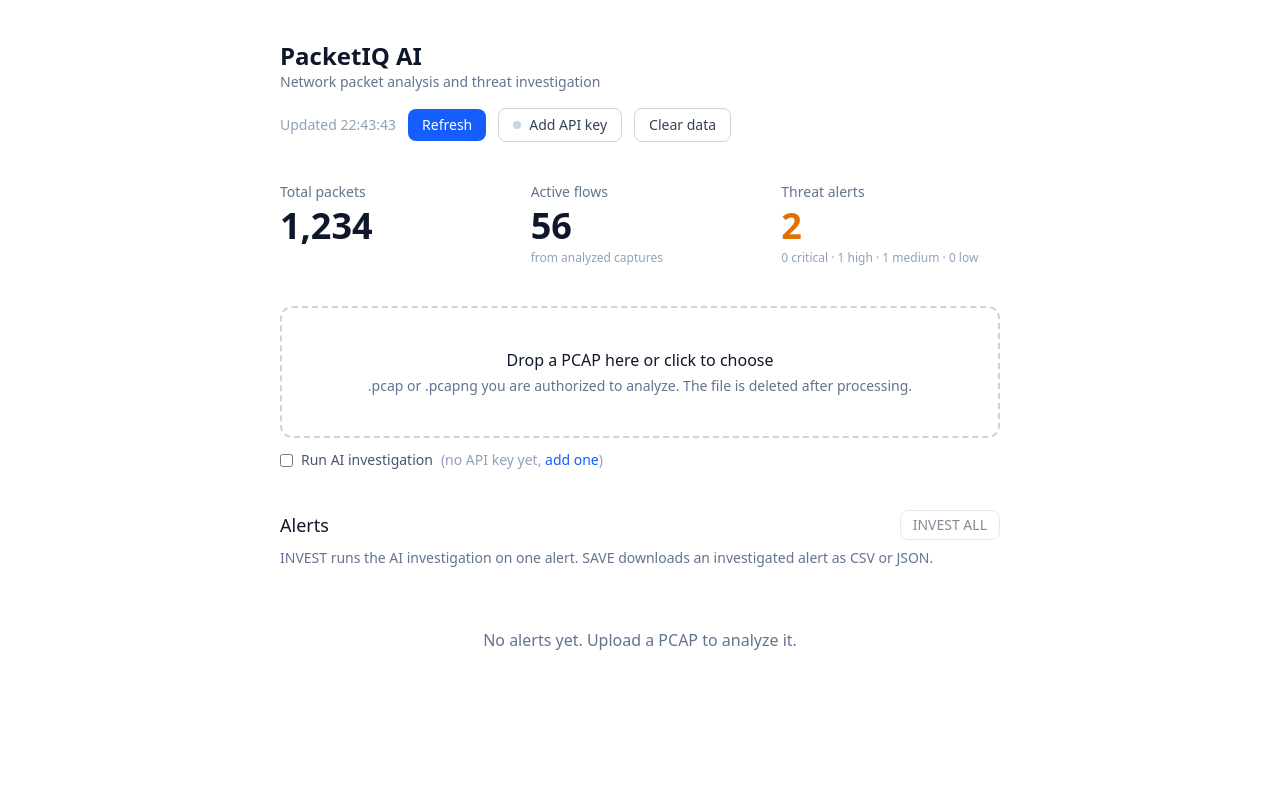
Scenario: Dashboard › adds an API key: dialog sends it once, then only the masked hint is shown
The image size is (1280, 800).
Click the button "Add API key". click: (560,125)
box: [498,108,622,142]
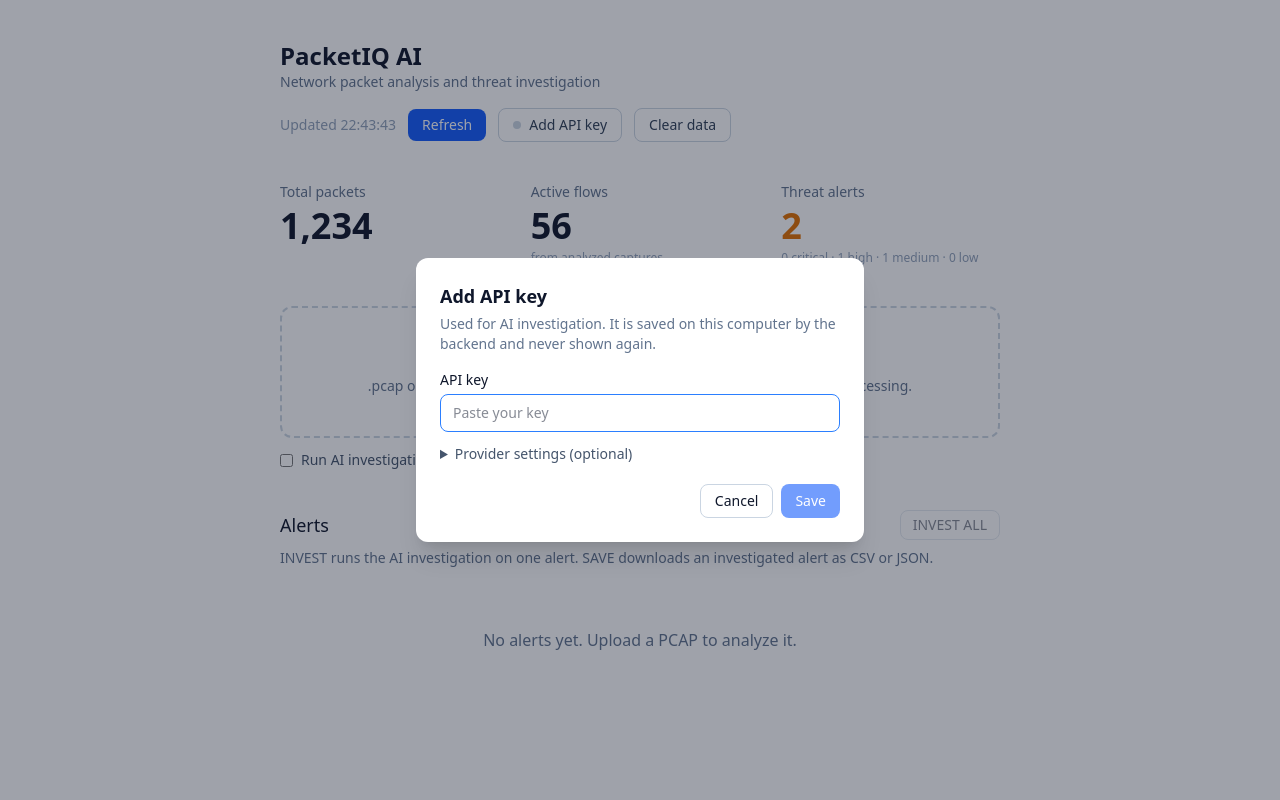
Result: the dialog shows "Add API key" at [440,284,547,308]
Type "sk-secret-wxyz" into the password field labelled "API key". click: (640,413)
box: [440,394,840,432]
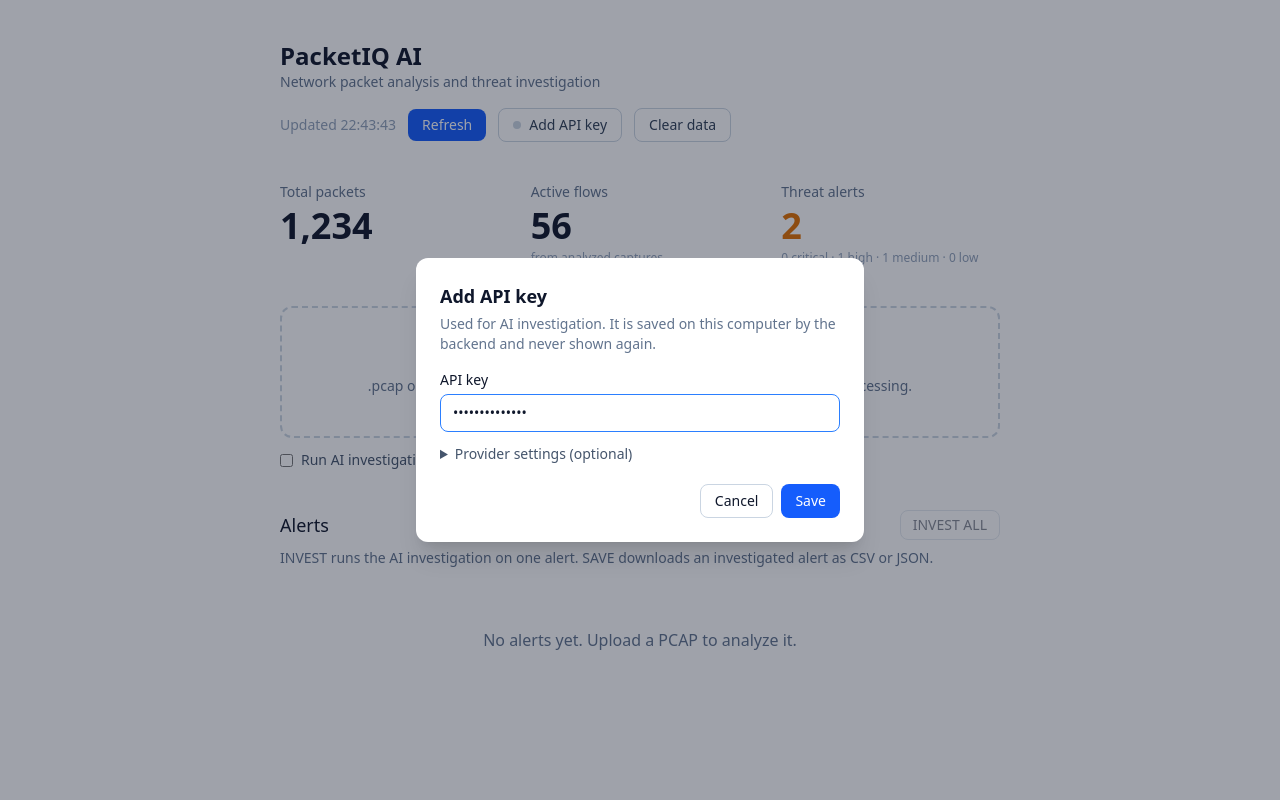
Click the button "Save". click: (811,501)
box: [781,484,840,518]
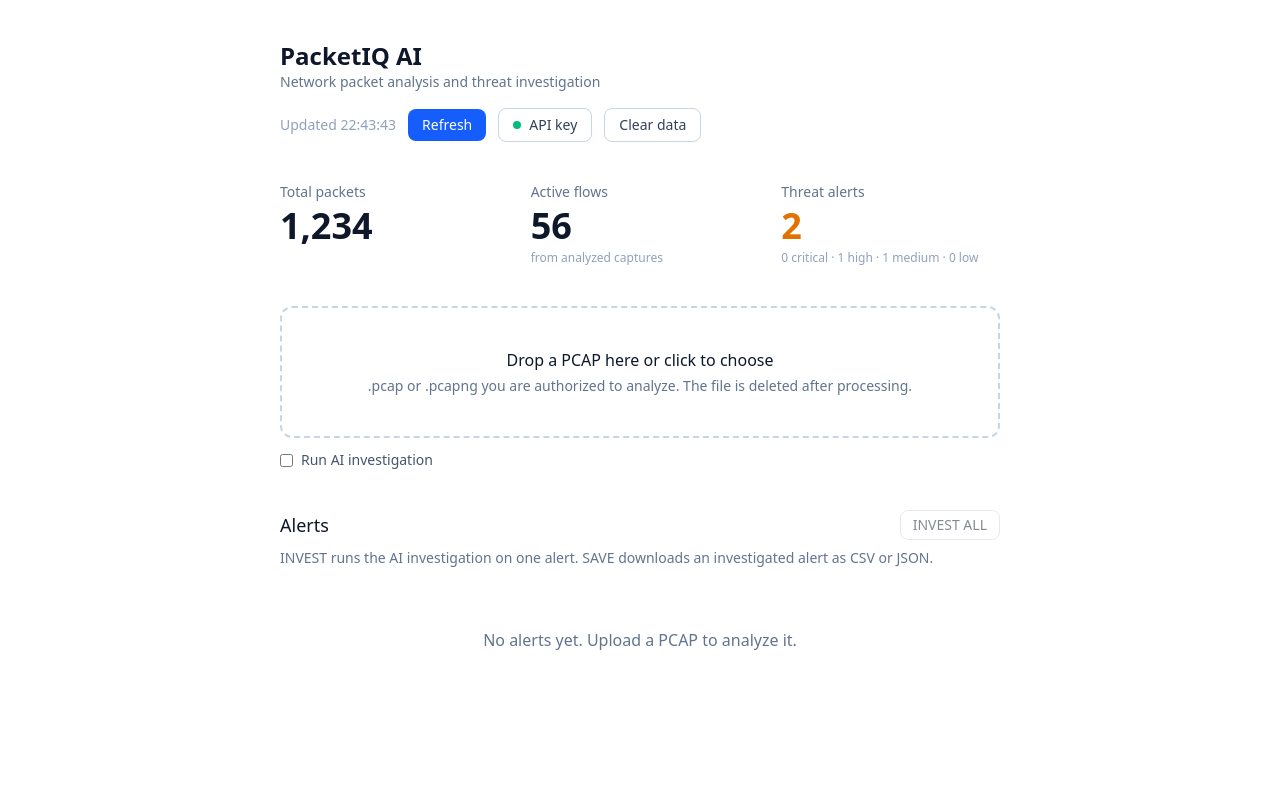
Result: the dialog is gone
// reopen to edit: shows the mask, empty key field, "Change" wording
Click the button "API key". click: (545,125)
box: [498,108,592,142]
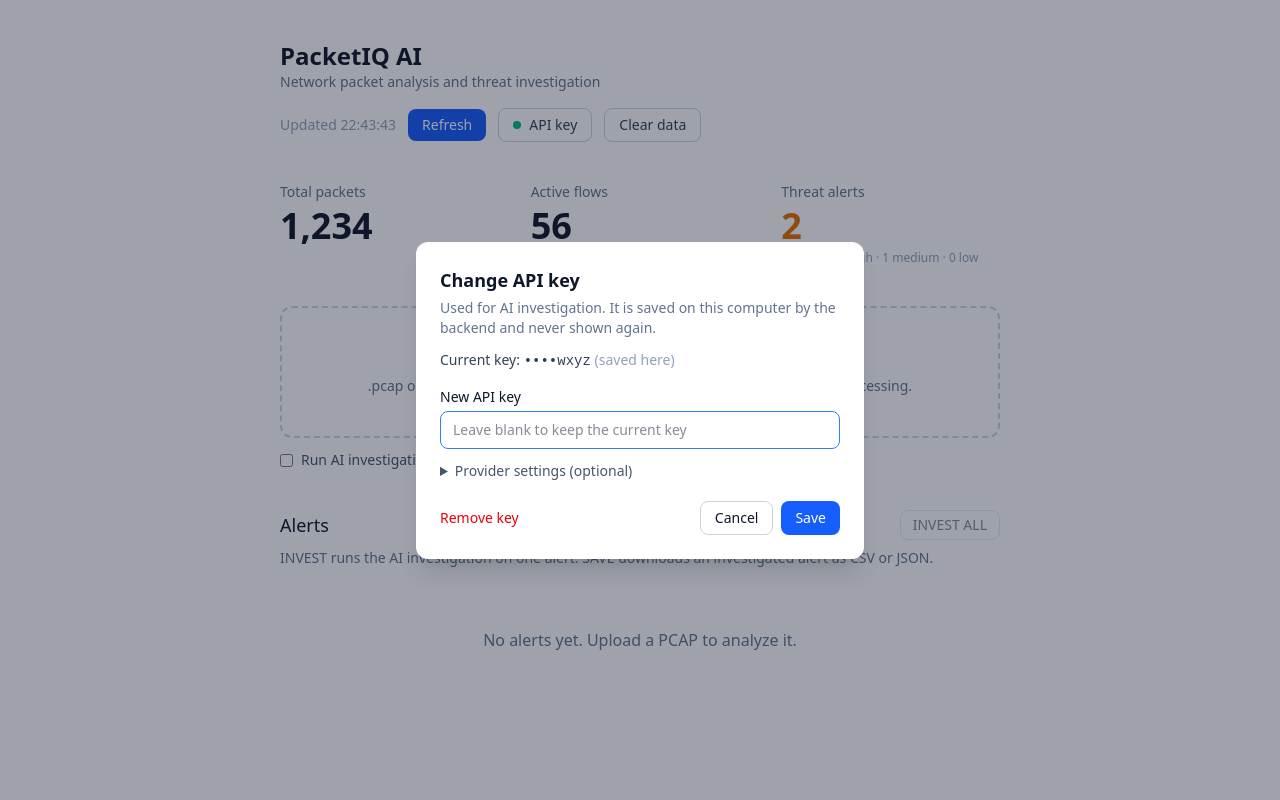
Result: the element with test id "current-key" shows "••••wxyz" at [524,352,591,368]
Result: the dialog shows "Change API key" at [440,268,580,292]
Result: the password field labelled "New API key" is empty at [440,410,840,448]
